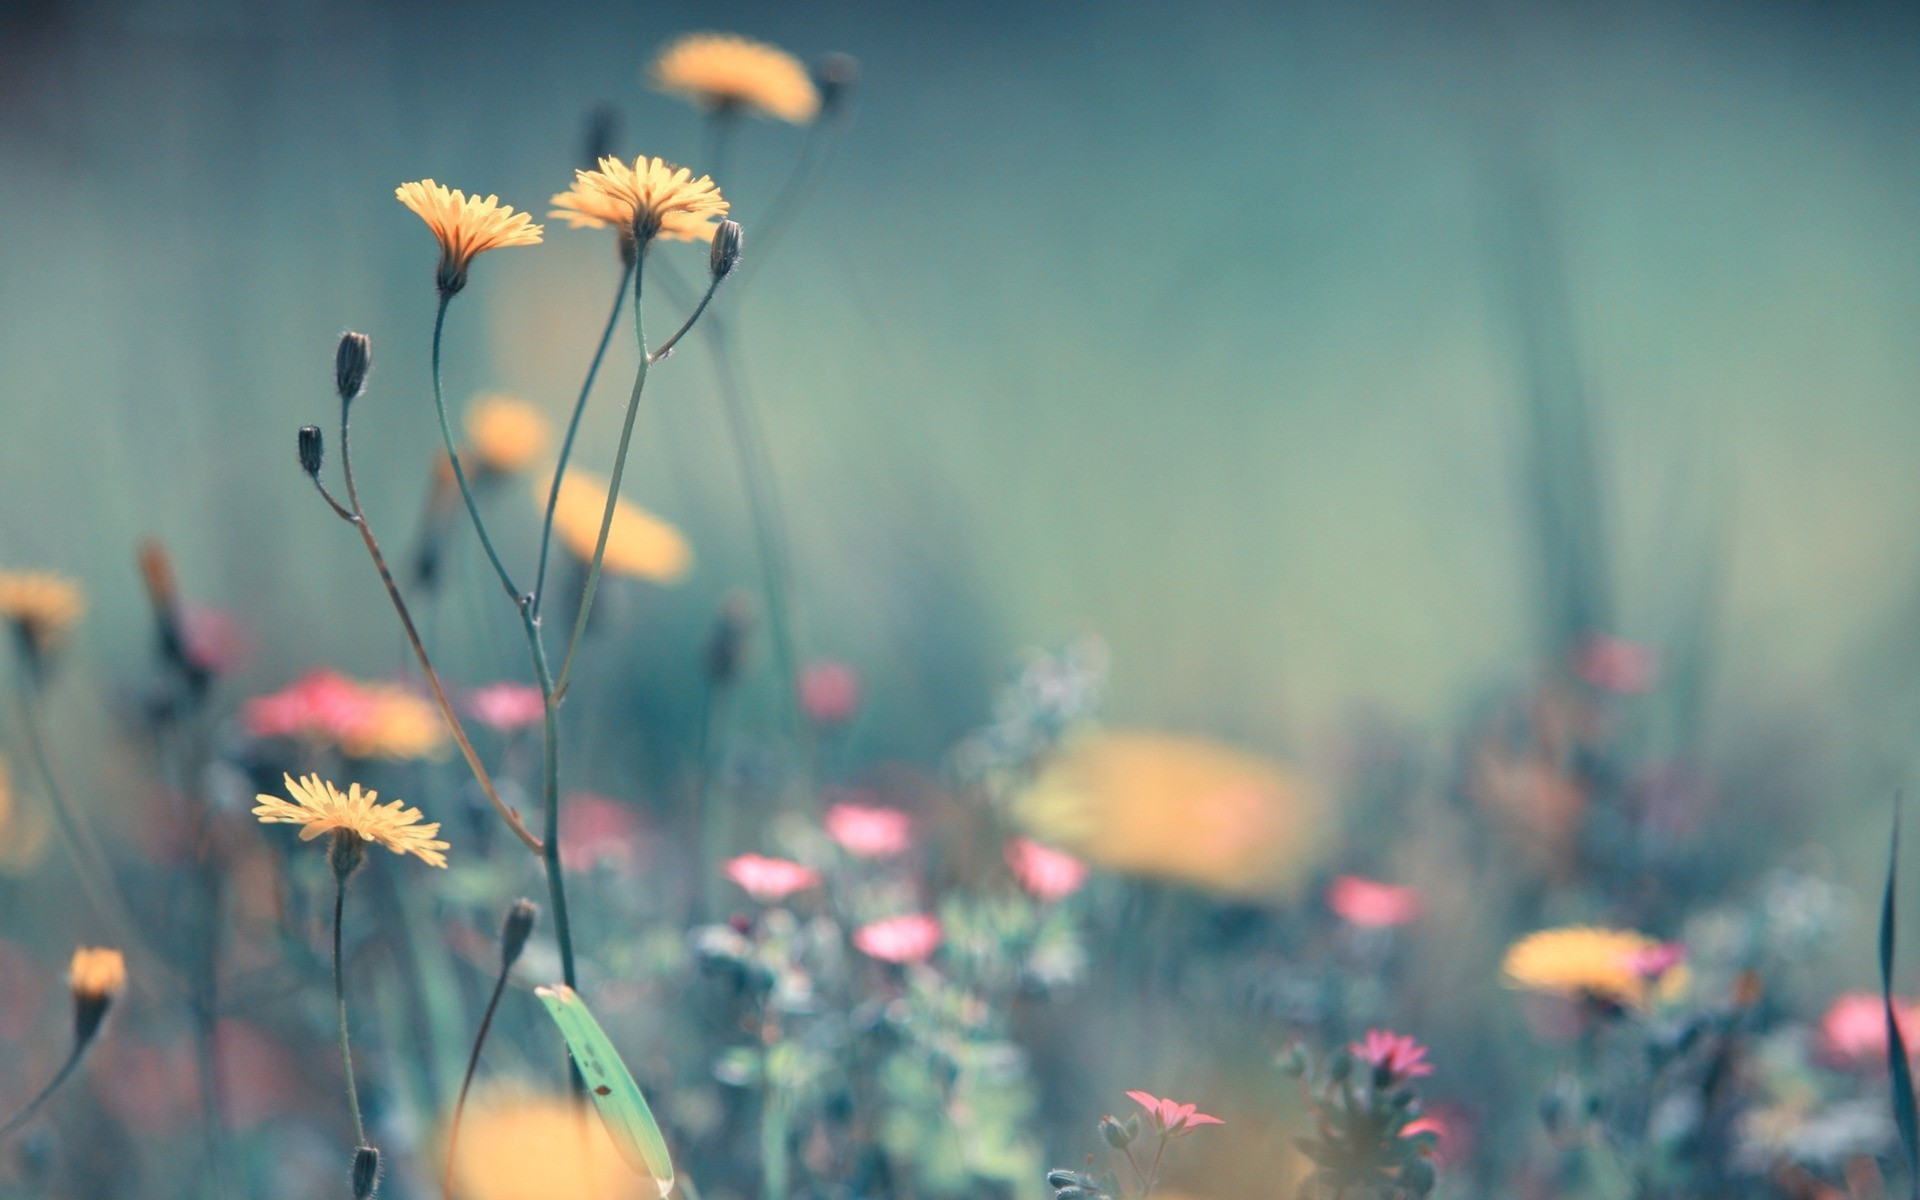dandelion: (270, 730, 440, 870), (399, 167, 542, 257), (545, 171, 713, 229)
